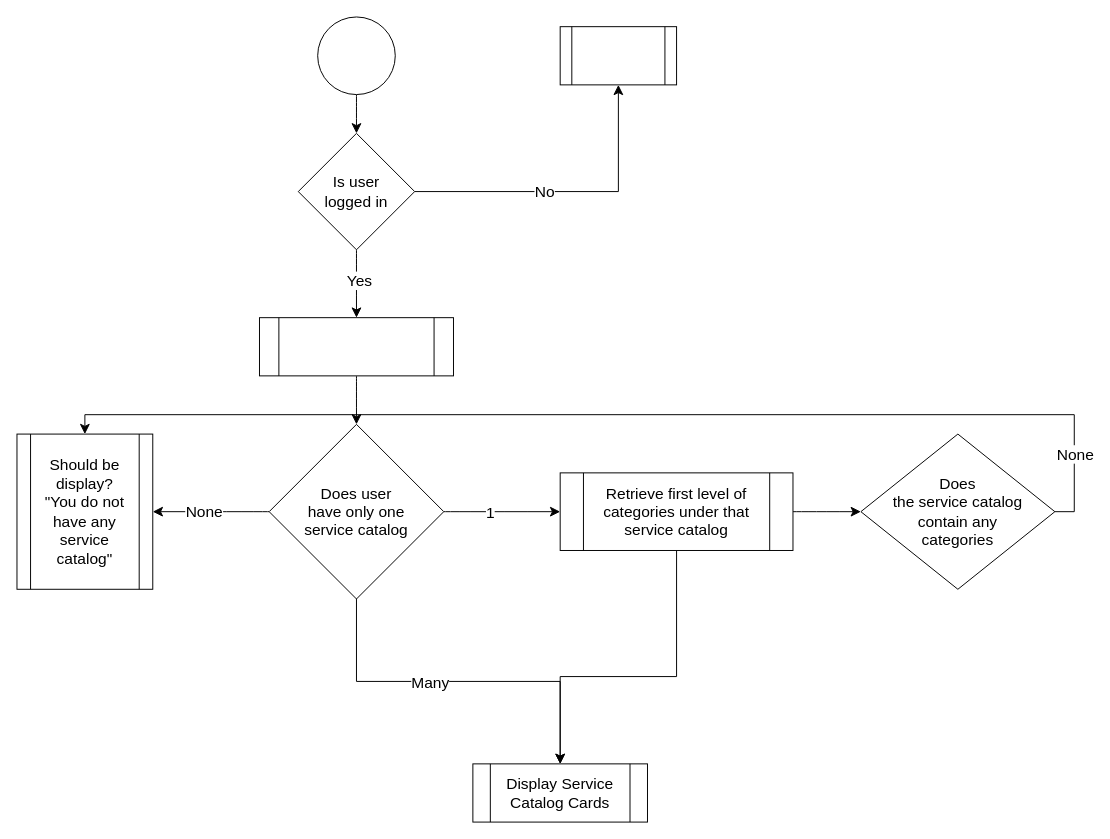
The diagram is 1110 pixels wide and 839 high, and some of its shapes have lost their labels. Here are the shapes that lost their labels. From the top down, the centre of each, then its label:
(x=356, y=55): Landing/ Home
(x=618, y=55): Log user in
(x=356, y=346): Retrieve service catalogs
